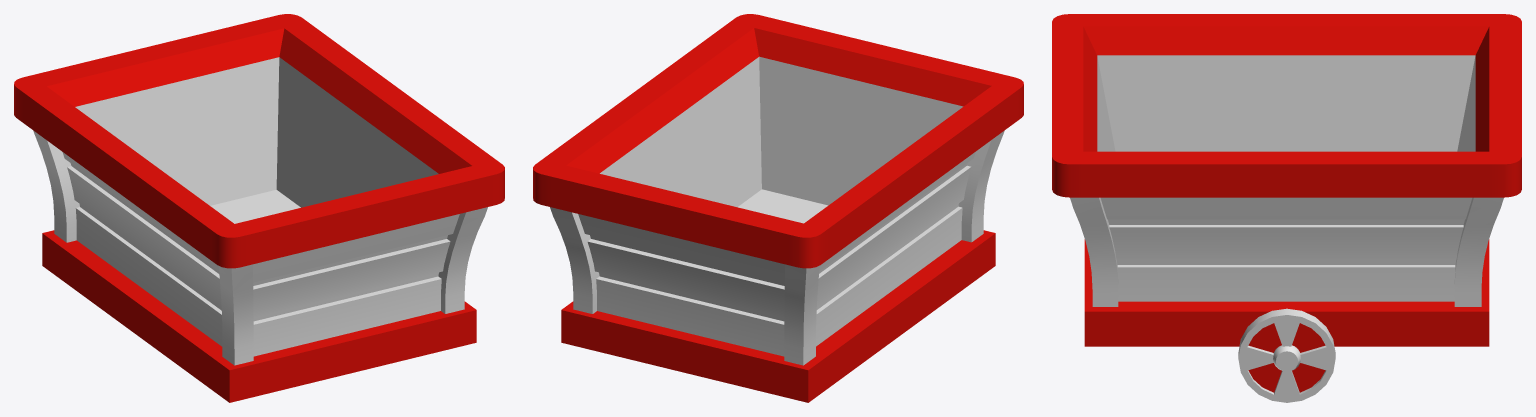
Rendered from Chariot.fbx.
3 views of the same model, side by side, from view 1: azimuth 30°, elevation 25°; view 2: azimuth 150°, elevation 25°; view 3: azimuth 270°, elevation 25° (orthographic). The views are drawn at different scales.
Visible parts, largest first — view 1: Cube; view 2: Cube; view 3: Cube, Cylinder.
Part boxes in pixels (x1,y1,x2,y2): Cube: [14, 14, 504, 402]; Cube: [533, 14, 1023, 402]; Cube: [1052, 14, 1521, 346]; Cylinder: [1238, 308, 1335, 402].
Size of the model in its own units: 377 by 268 by 483.
